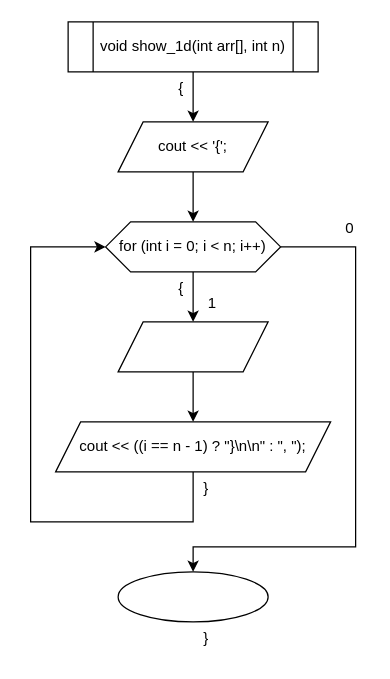
Image size: 390x679. Some labels were removed from this diagram. The centre of each missing label's shape, as x and y in pixels:
"cout << arr[i];" goes at point (192, 346).
"return;" goes at point (192, 596).
